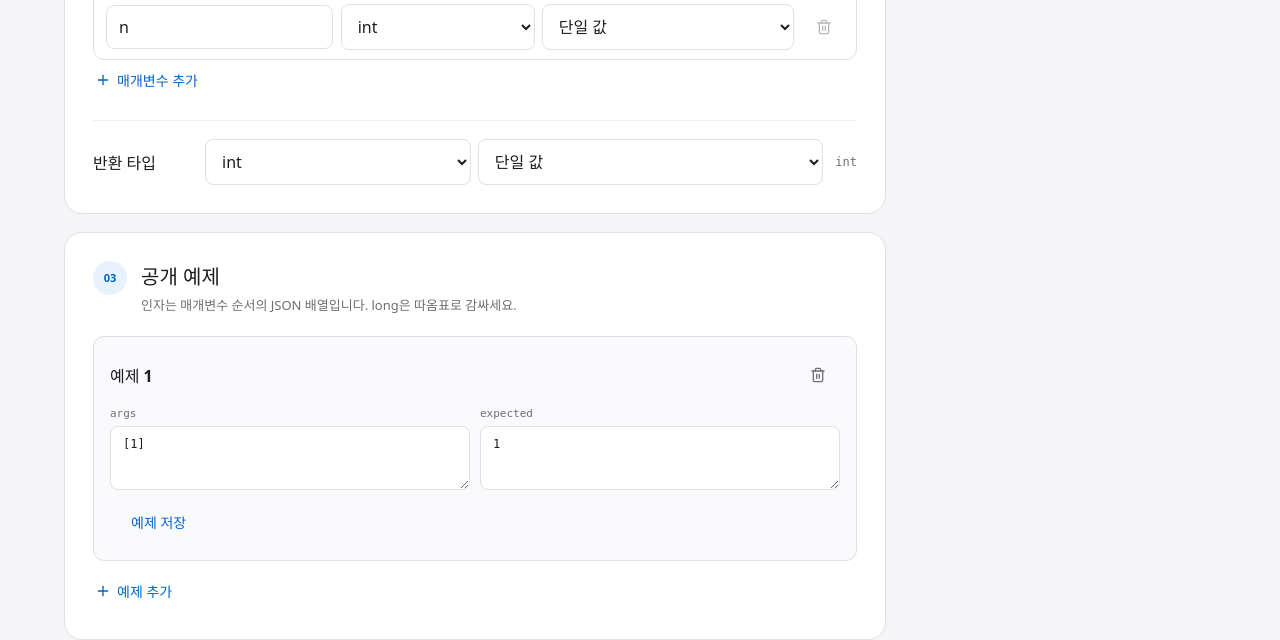
EditProblemPage examples › blocks generation while a visible example has unsaved edits
(page scrolled)
Replace the text in the text box labelled "args" with "[2]". click: (290, 458)
box: [110, 426, 470, 490]
(page scrolled)
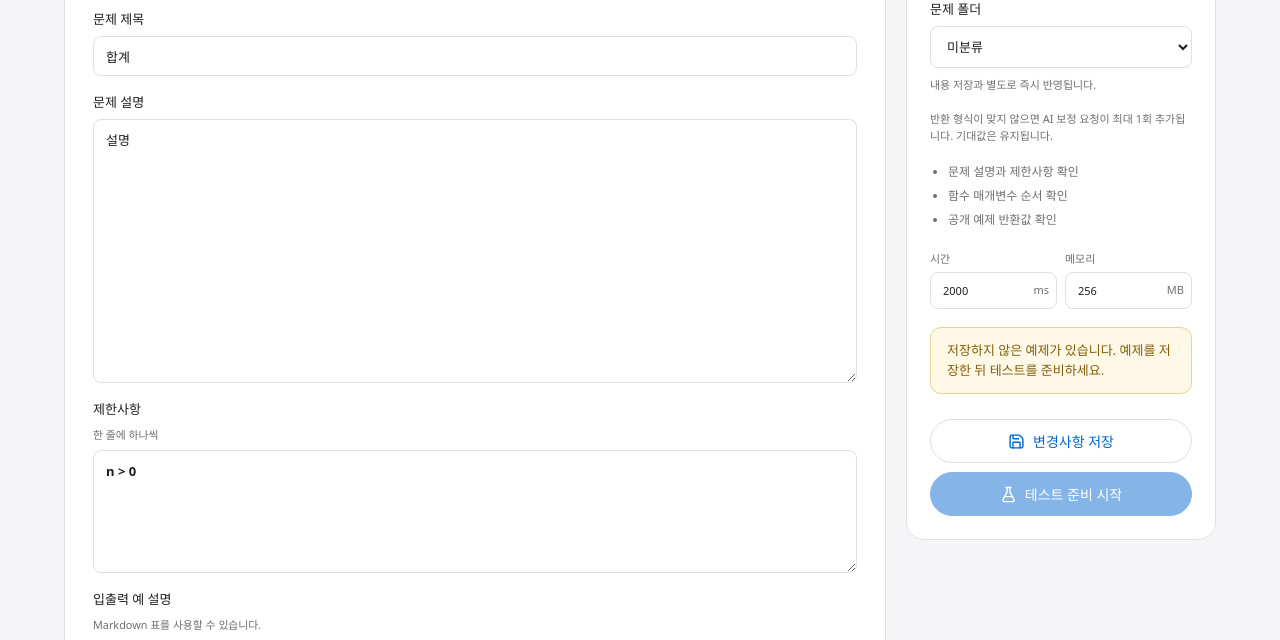
Expected: the button "테스트 준비 시작" is disabled, [930, 472, 1192, 516]
Expected: the text "저장하지 않은 예제가 있습니다. 예제를 저장한 뒤 테스트를 준비하세요." is shown, [930, 327, 1192, 394]
